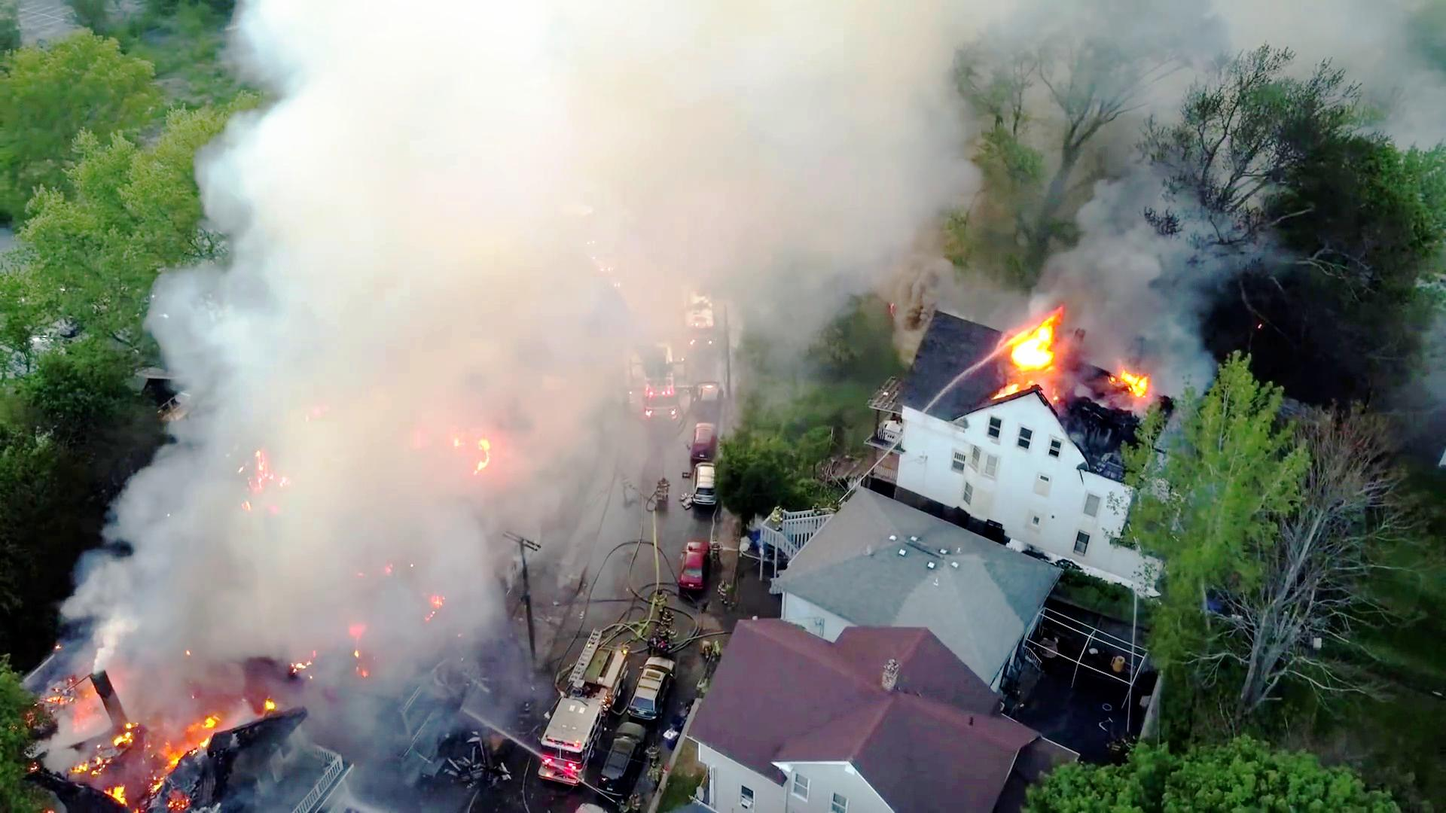fire: (1009, 291, 1057, 372)
smoke: (302, 44, 572, 584)
